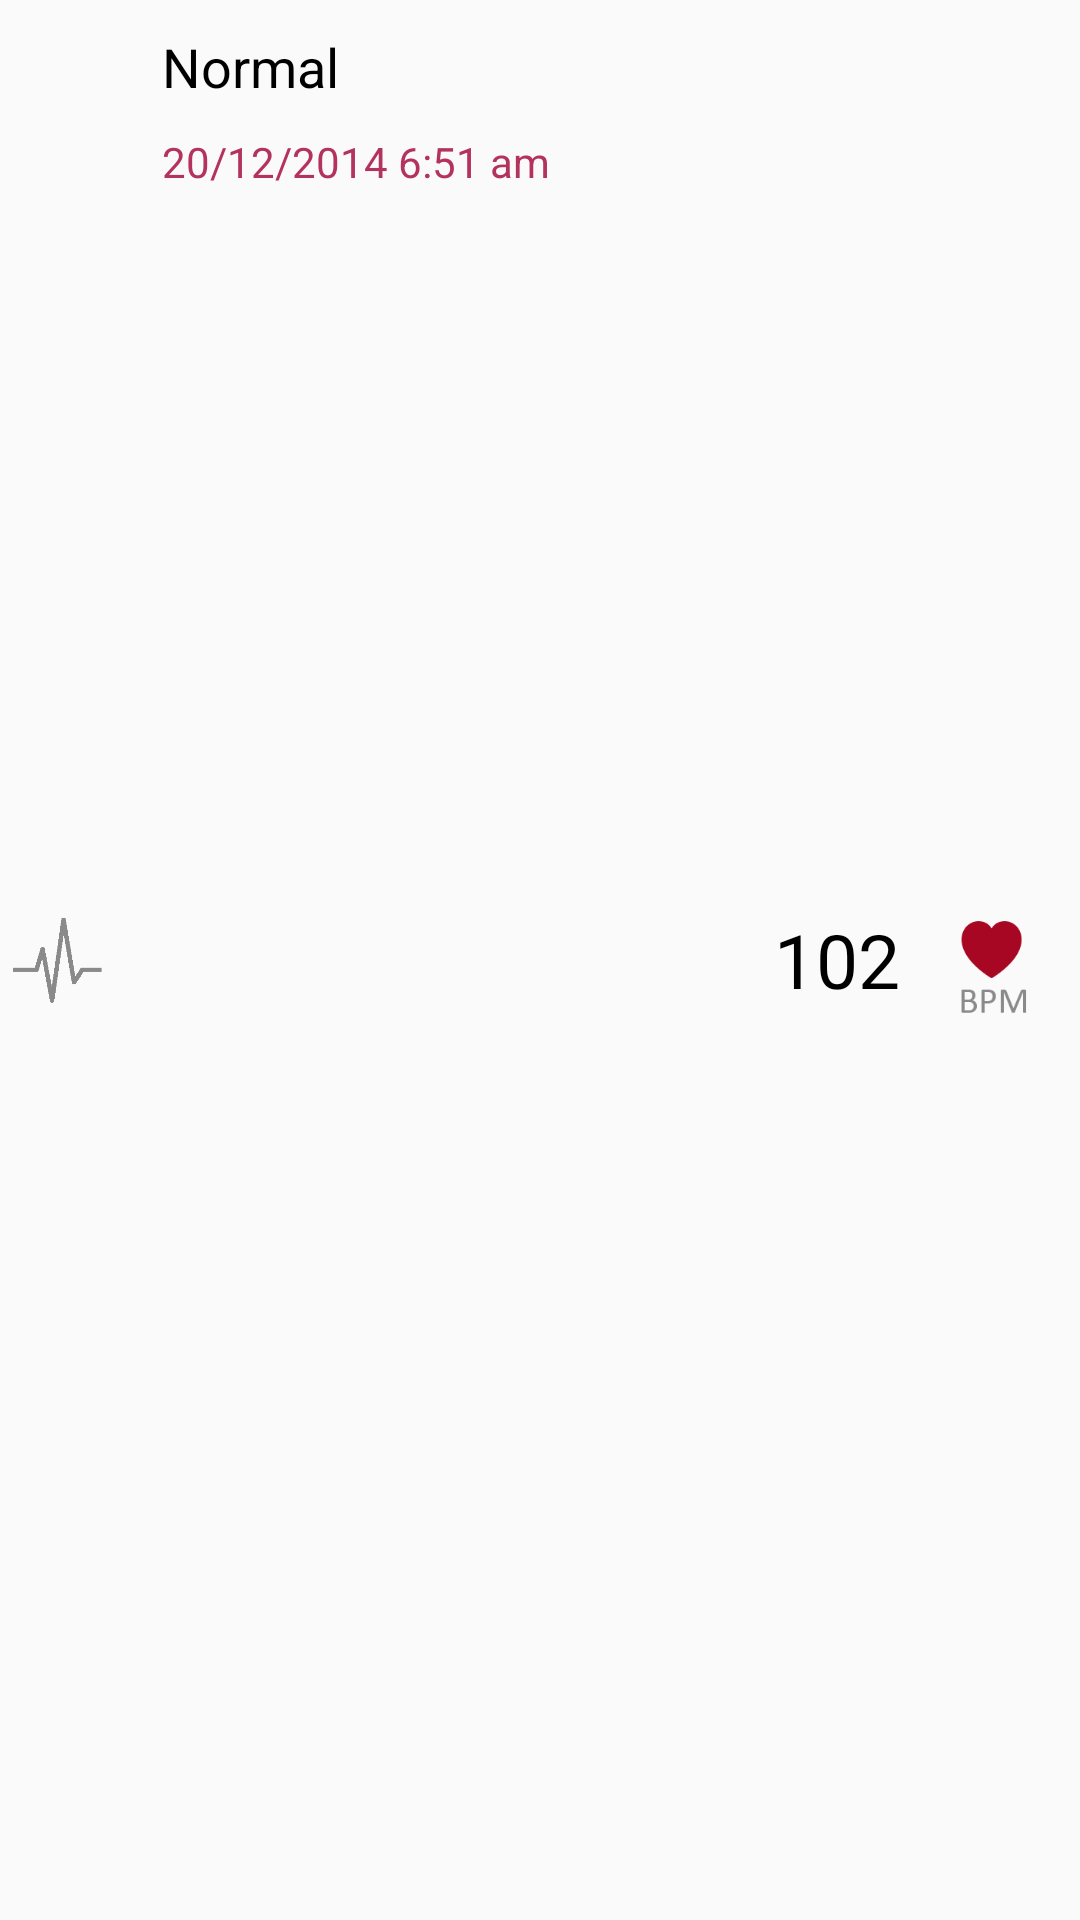

Icons on this 1080x1920 Android screen, each with the point to tap as (x=x, y=y):
pulse: (x=57, y=960)
